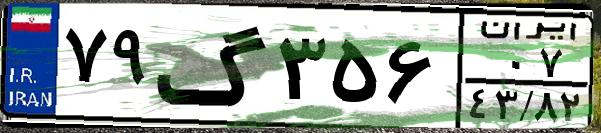0: (508, 27, 537, 80)
2: (560, 70, 590, 125)
3: (270, 28, 330, 110), (495, 70, 520, 125)
4: (470, 70, 495, 125)
5: (330, 28, 385, 110)
6: (385, 28, 445, 110)
7: (57, 26, 110, 100), (537, 27, 568, 80)
8: (535, 70, 560, 125)
9: (110, 28, 156, 98)
گ: (156, 12, 270, 120)
